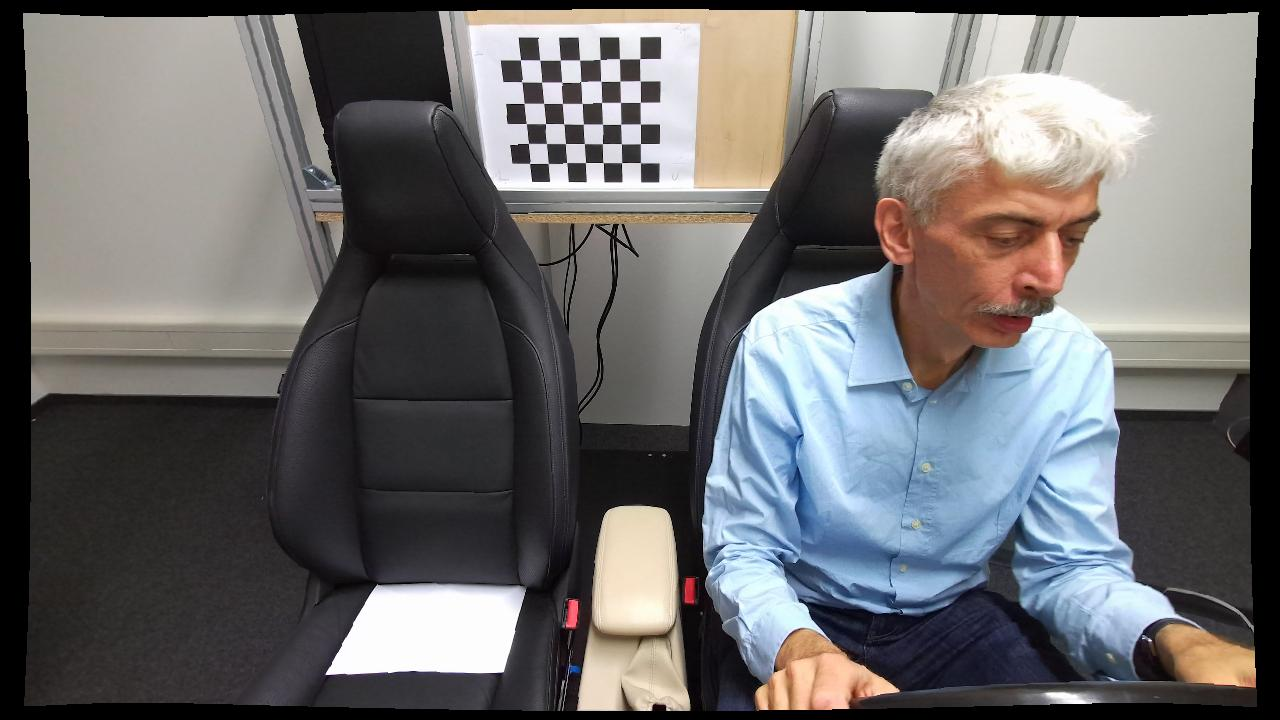Distracted: (688, 66, 1260, 712)
